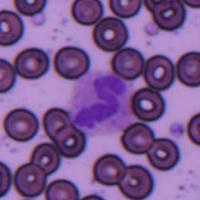N: (68, 69, 133, 135)
